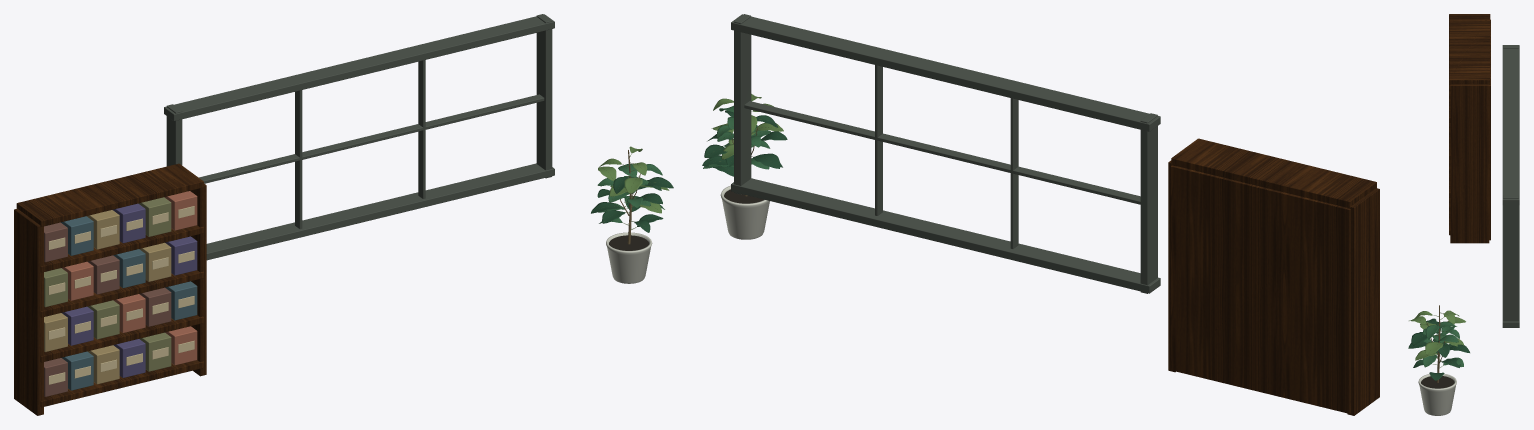
File: north.glb
The picture shows the model from 3 angles, left to right: view 1: azimuth 30°, elevation 25°; view 2: azimuth 150°, elevation 25°; view 3: azimuth 270°, elevation 25°; orthographic projection. The views are drawn at different scales.
Parts seen in each view (by area): view 1: japanese-game-cafe north; view 2: japanese-game-cafe north; view 3: japanese-game-cafe north.
Boxes of the visible parts, x1,y1,x2,y2 form: japanese-game-cafe north: (14, 14, 673, 415); japanese-game-cafe north: (702, 14, 1379, 415); japanese-game-cafe north: (1408, 14, 1519, 415).
Bounding box in the file's own units: 8.36 × 3.08 × 1.56.
16 materials, 1 textured.
